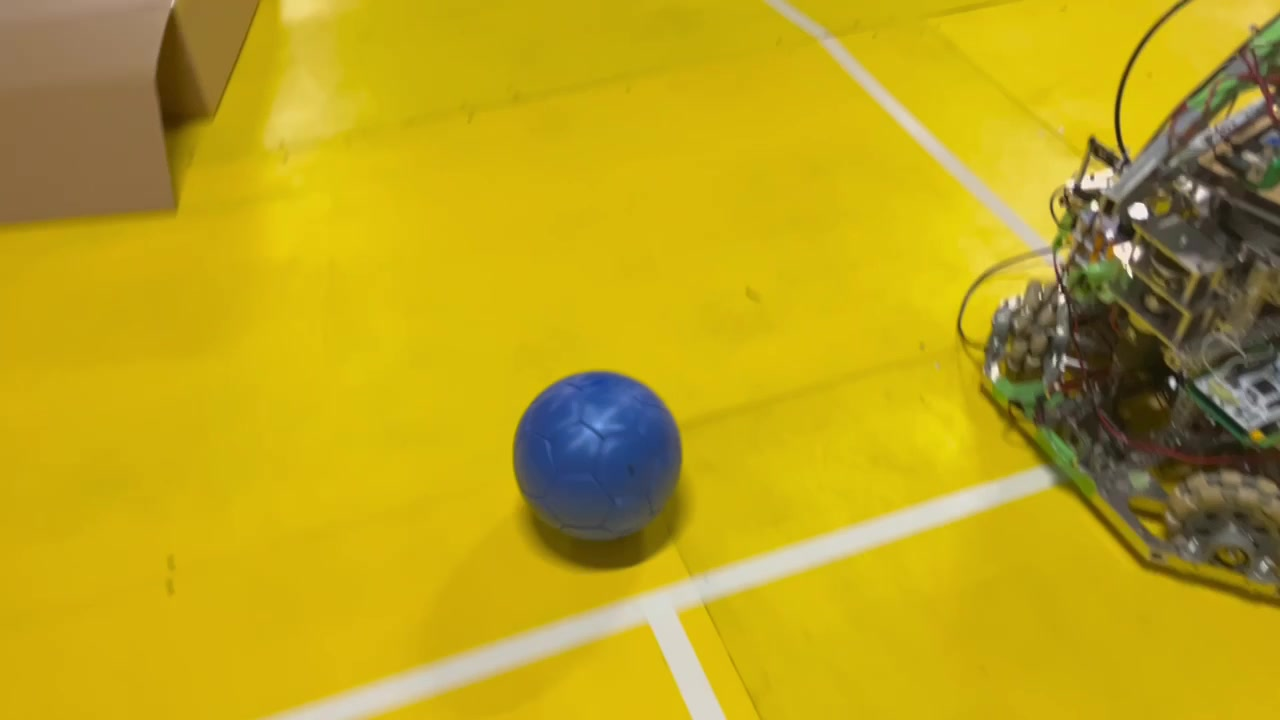blue: (491, 365, 685, 552)
